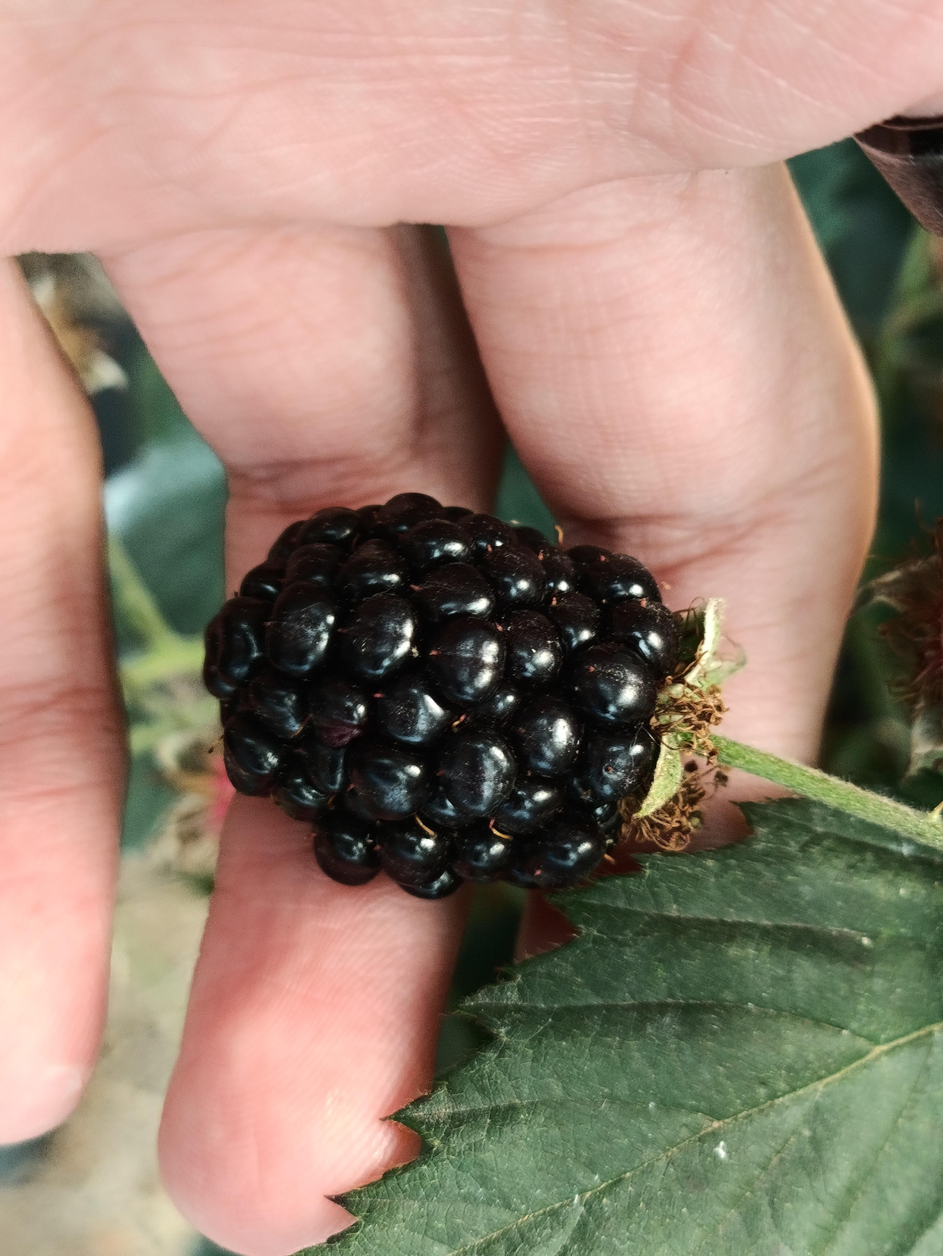maduro: (205, 489, 693, 902)
